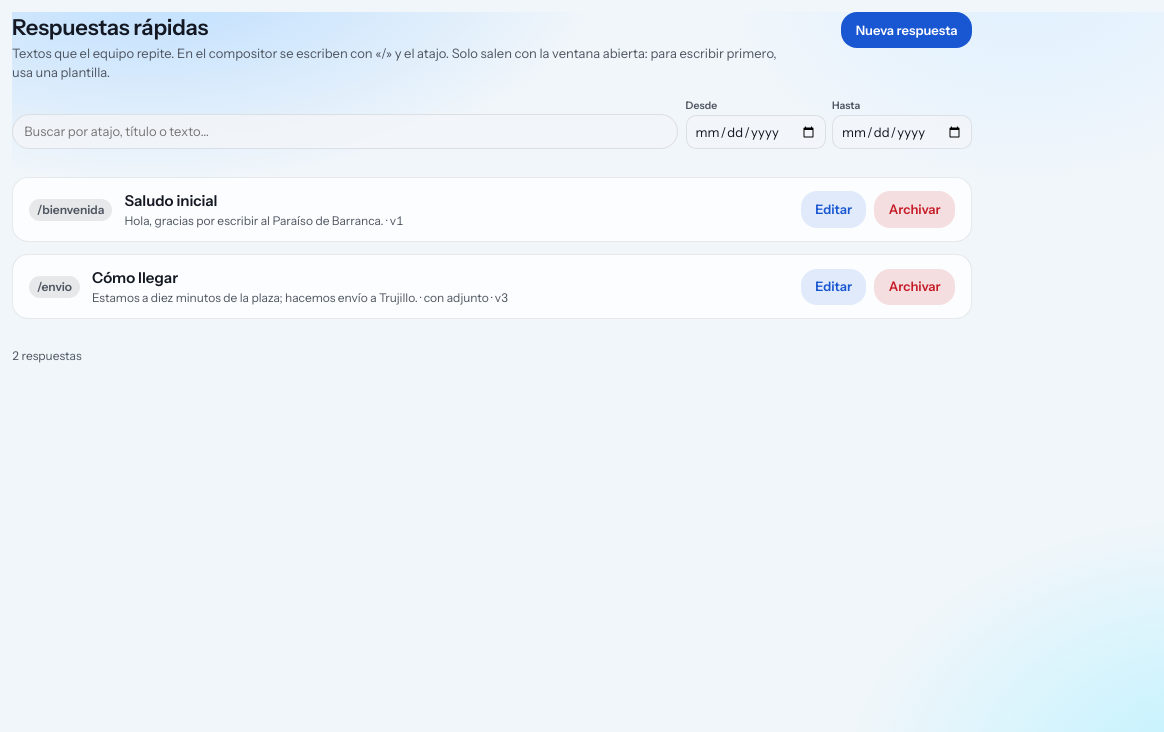
it: Respuestas rápidas · buscar, contar y paginar › busca en el TEXTO, no solo en el atajo
The image size is (1164, 732).
Expected: the text "Saludo inicial" is shown, [124,191,217,210]
Type "trujillo" into the search field. click: (345, 132)
box: [12,114,678,149]
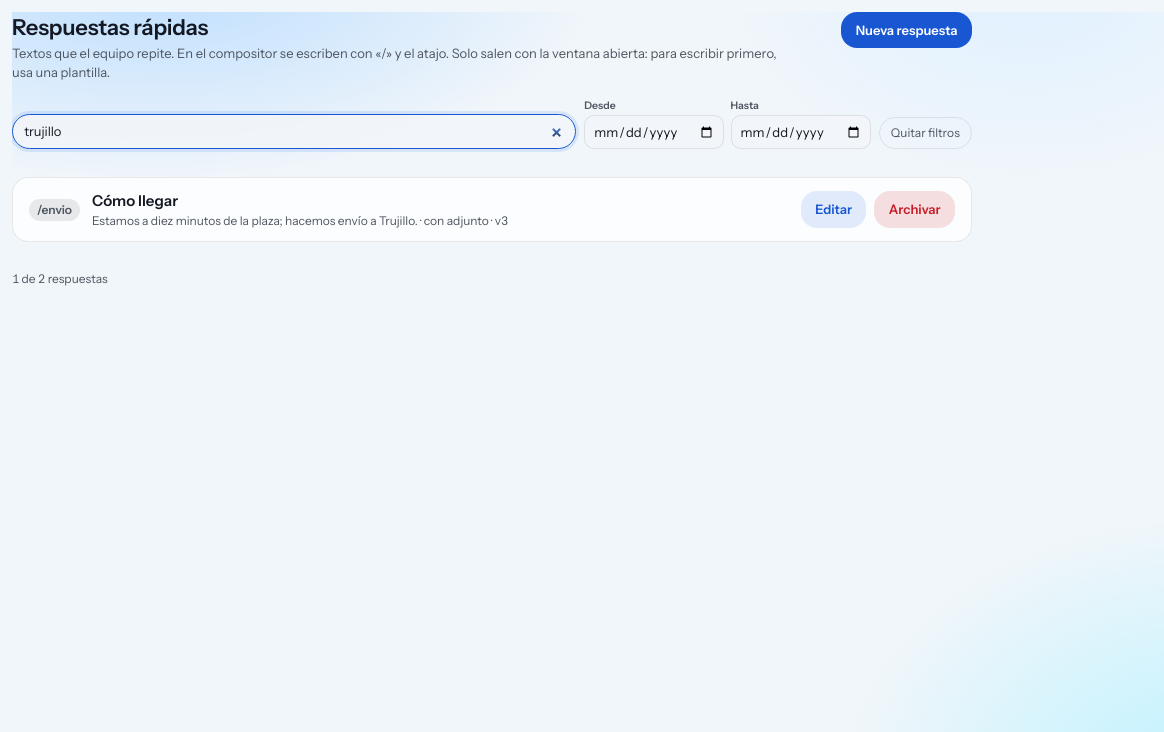
Expected: the text "Cómo llegar" is shown, [92,191,178,210]
Now the text "Saludo inicial" is gone
Now the text "1 de 2 respuestas" is shown, box [12,270,108,288]
